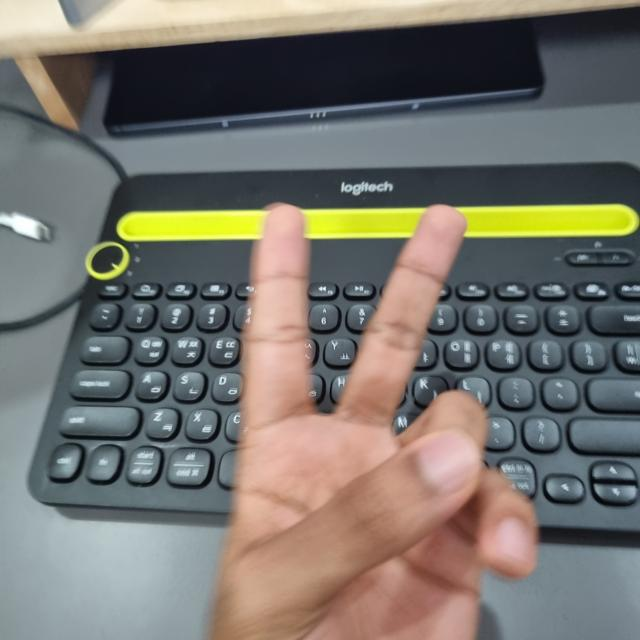Scissors: (193, 205, 534, 640)
